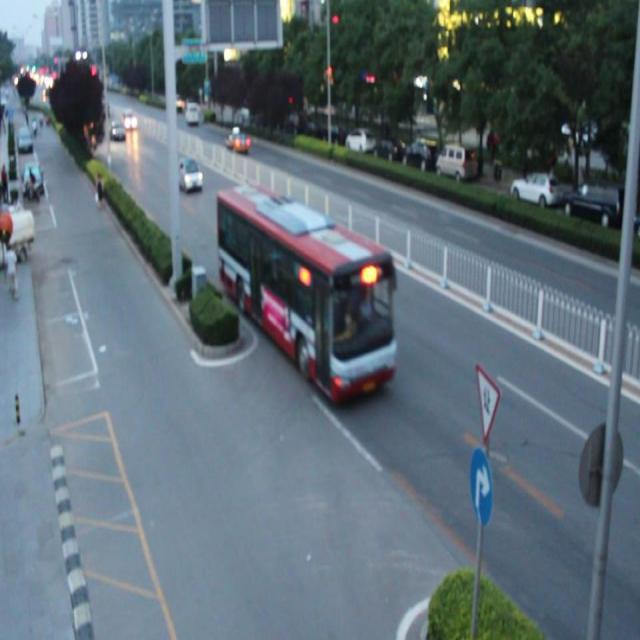car: (175, 157, 203, 191), (222, 127, 248, 155)
van: (216, 182, 393, 402)
